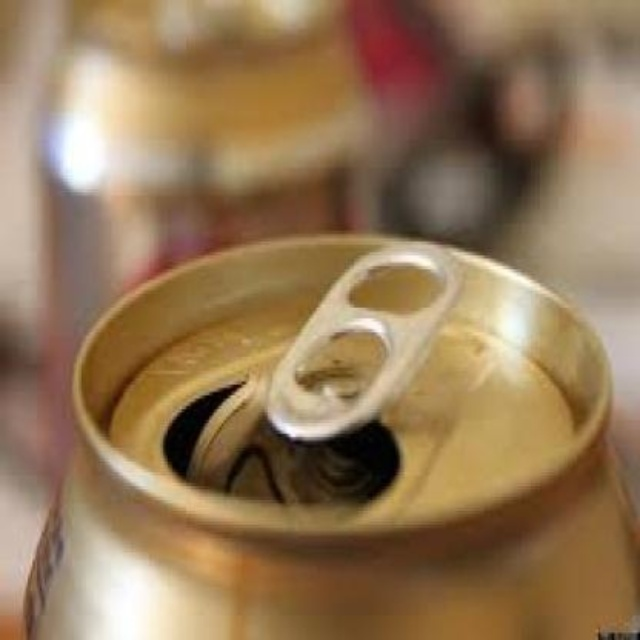trash: (35, 235, 638, 638)
